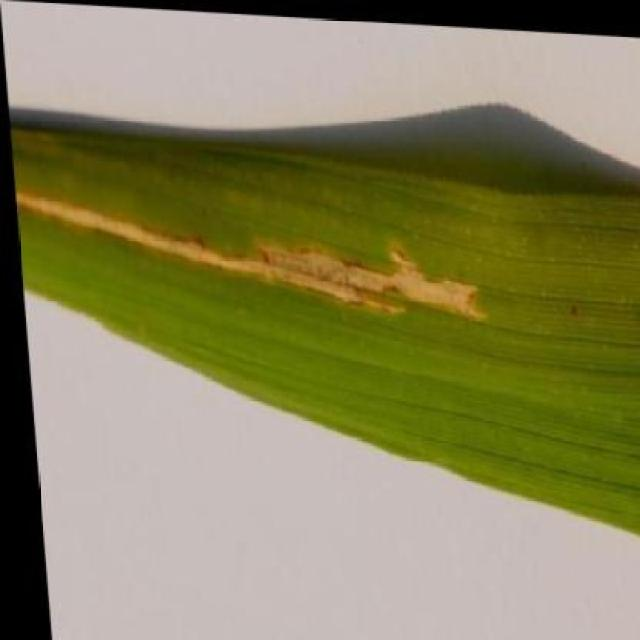Brown_Spot: (16, 115, 636, 573)
